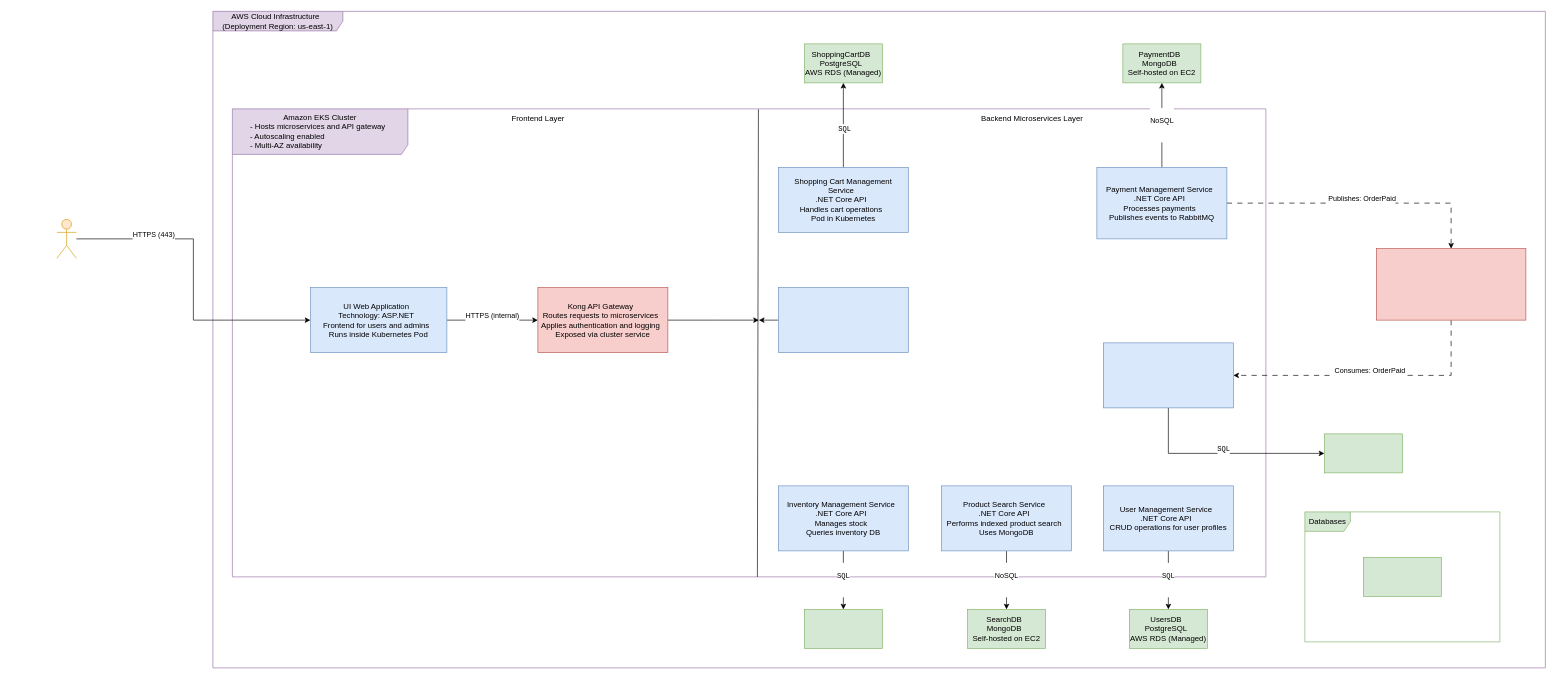
Image size: 1557x679. Some labels were removed from this diagram. Here are the shapes that lost their labels. From the top down, the centre of each, then its label:
[66,238]: External Users (Customers and Store Admins) Access via Internet
[1451,284]: RabbitMQ Asynchronous Message Broker Deployed in Kubernetes Uses AMQP
[843,320]: Authentication Service .NET Core API Handles login and JWT generation
[1168,375]: Notification Service .NET Core API Consumes events Sends email/SMS notifications
[1363,453]: NotificationDB PostgreSQL AWS RDS (Managed)
[1402,576]: All DataBases
[843,628]: InventoryDB PostgreSQL AWS RDS (Managed)
